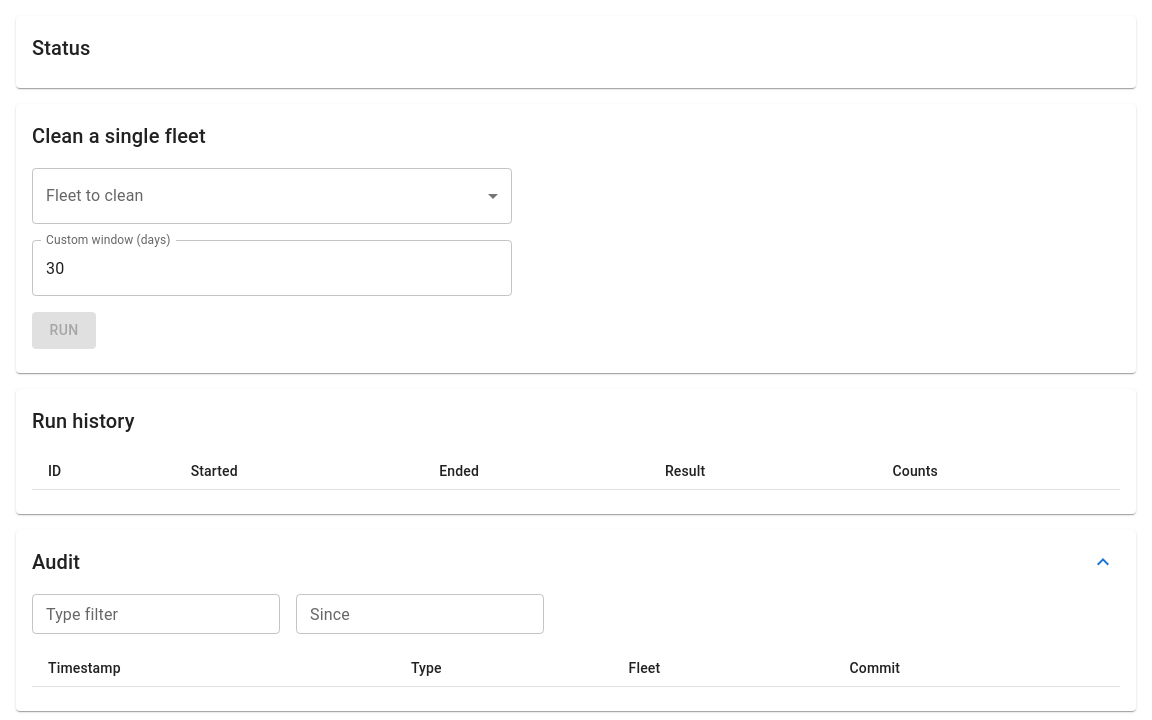
Run history + log dialog › audit toggle collapses and expands the audit section
Step 1. Click the button named "collapse audit" → (1103, 562), box [1086,546,1120,578]
(page scrolled)
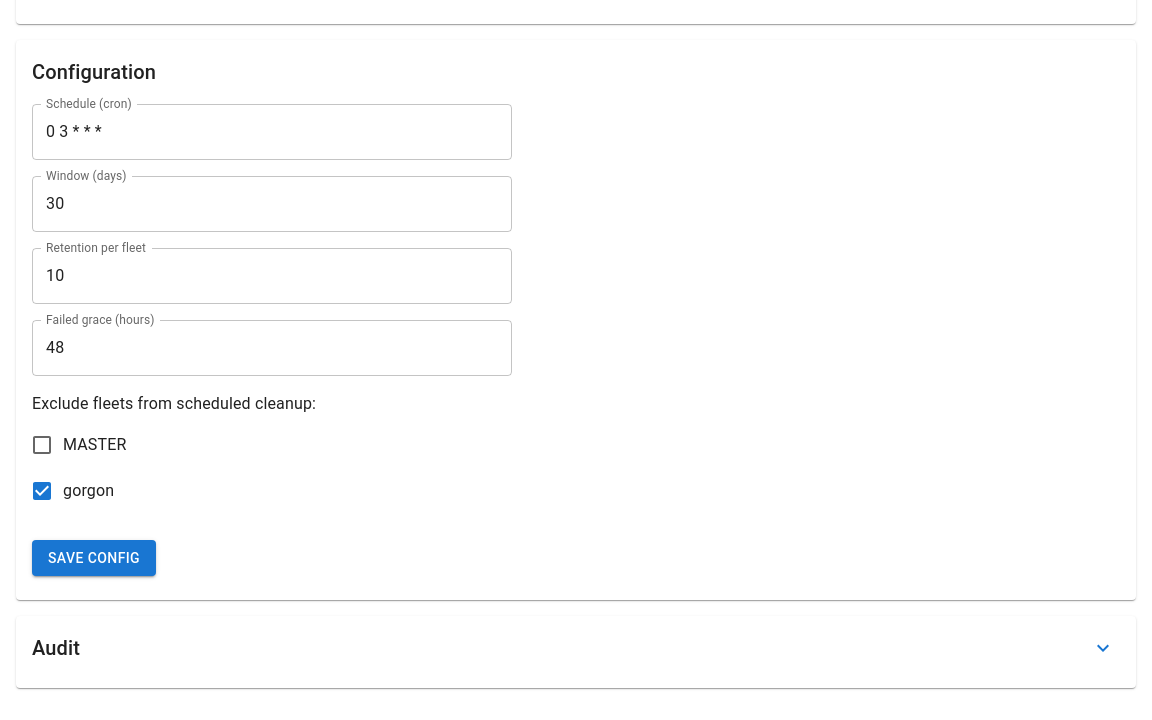
expect the button named "expand audit" is shown: met, box [1086,632,1120,664]
